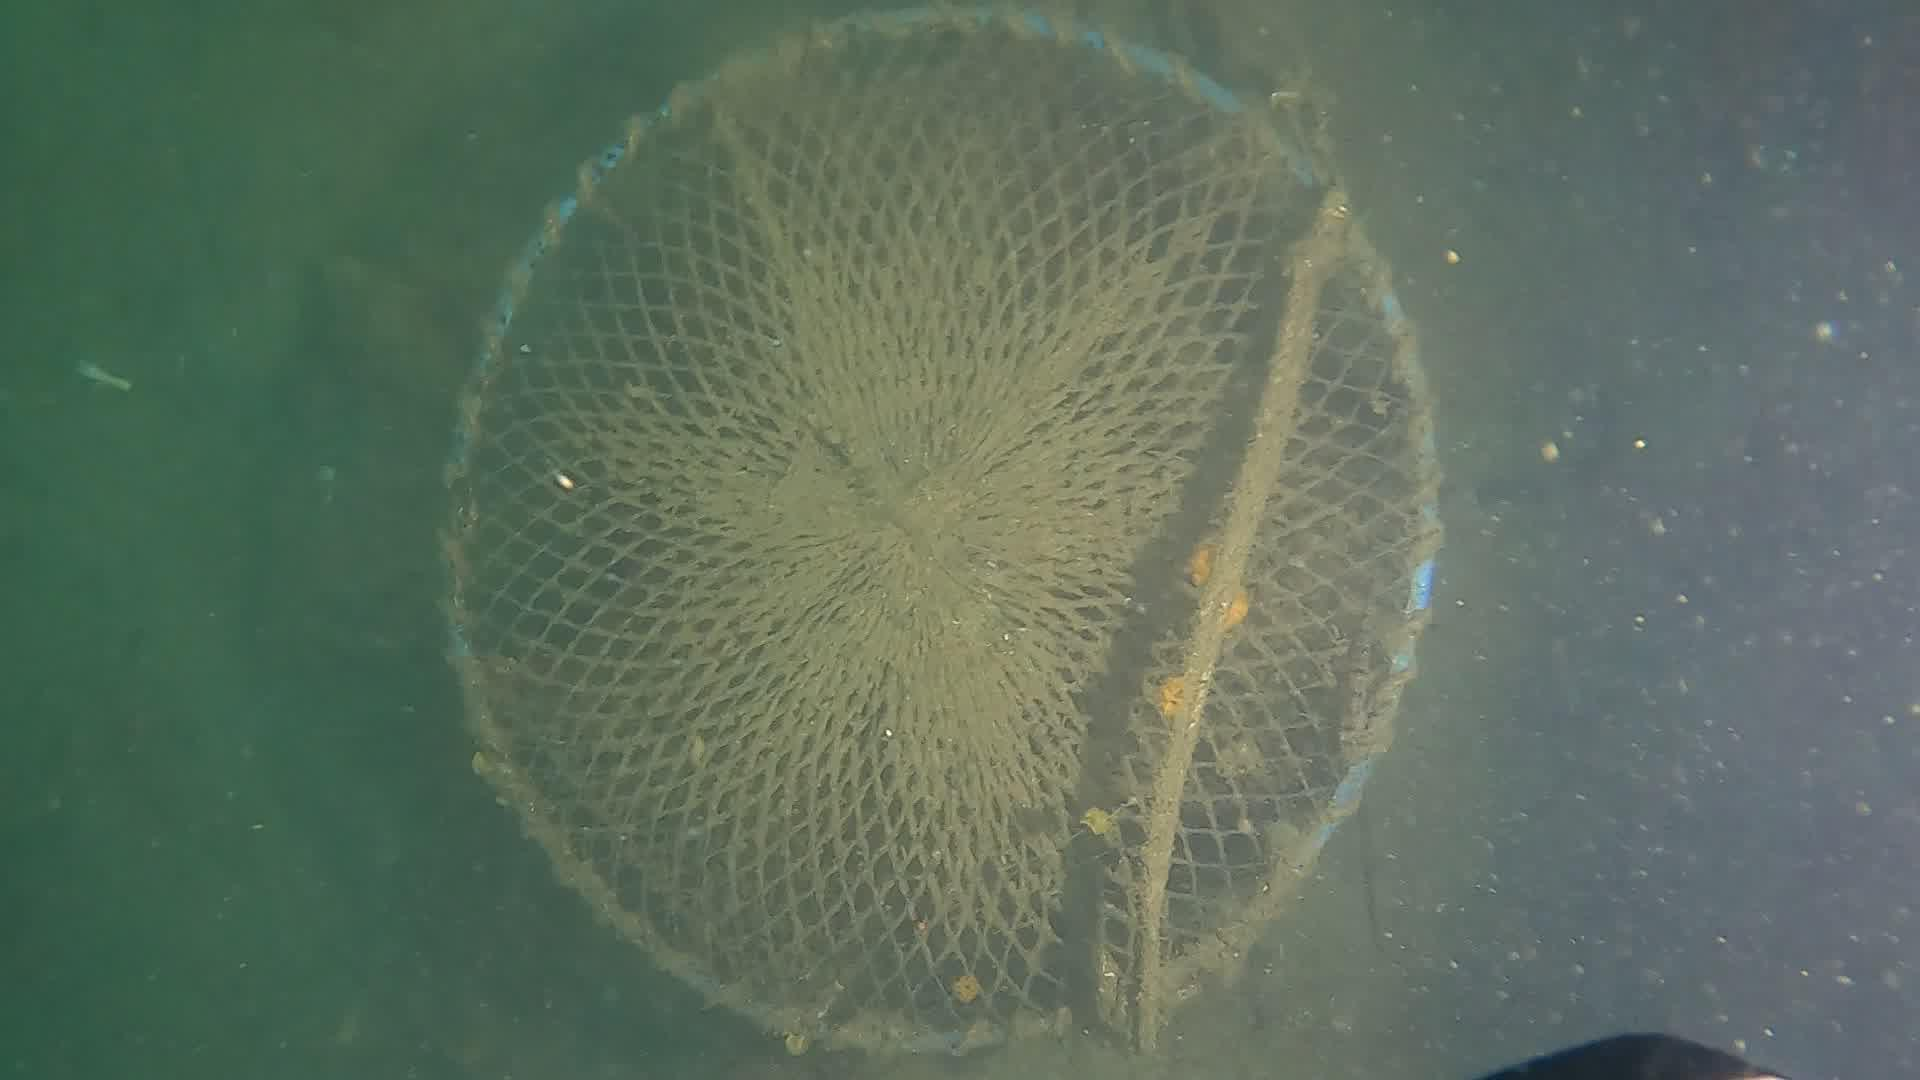circular fish trap: (435, 0, 1453, 1064)
